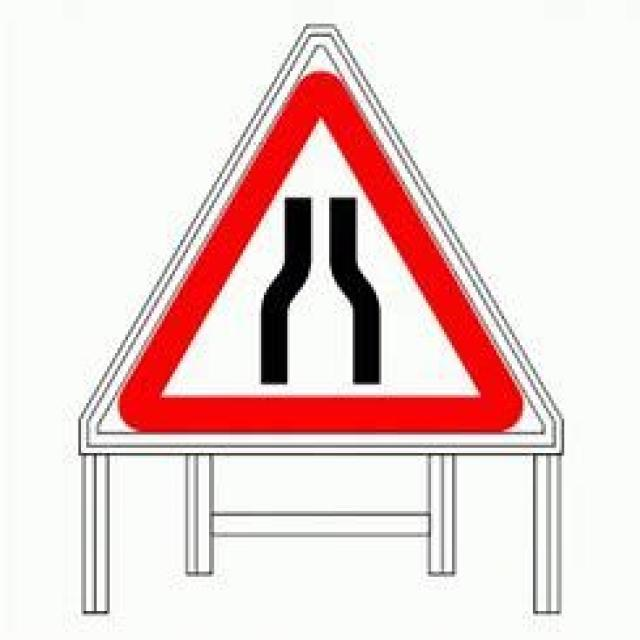narrow road ahead: (114, 69, 522, 430)
